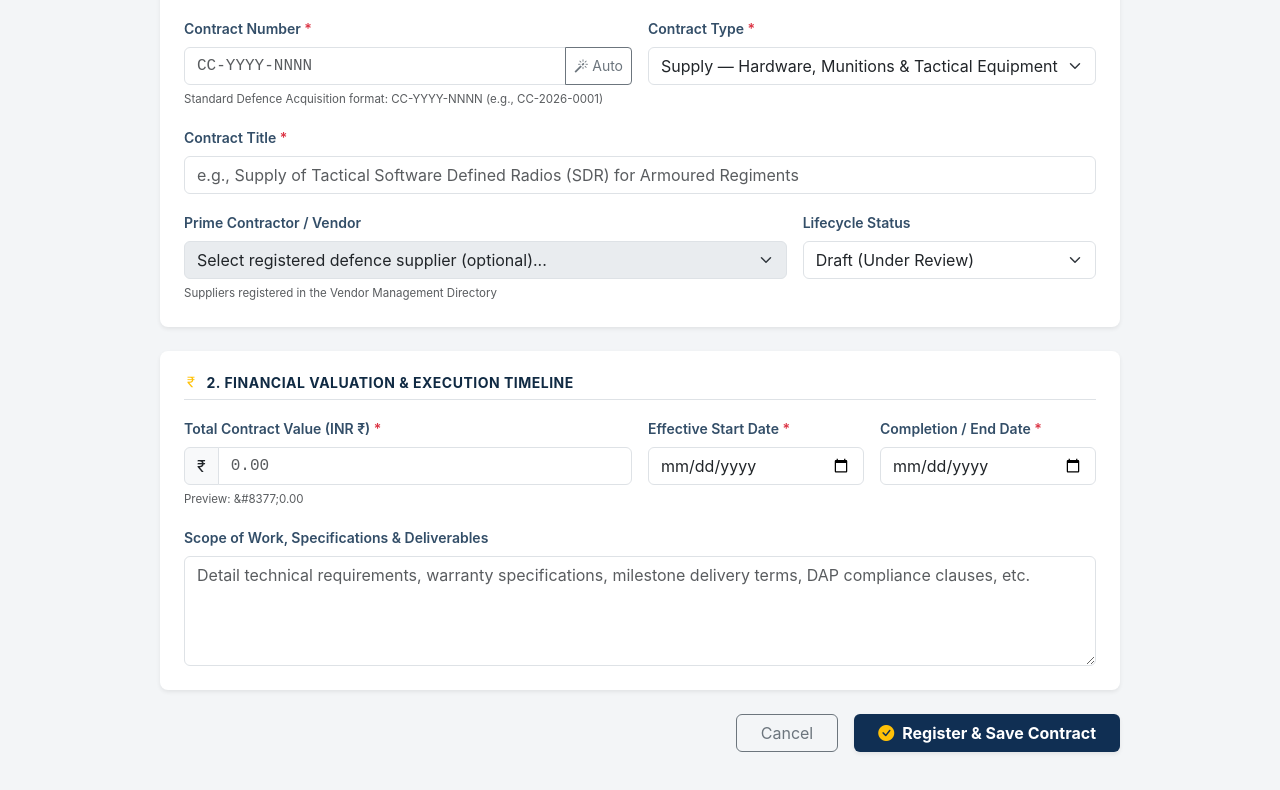
Test: Phase 4 — Contract Repository and Lifecycle Suite › ContractCreatePage Component › enforces validation rules: format, positive value, and chronological dates
(page scrolled)
What coordinates should you click on to do the following:
click the button "Register & Save Contract"
I would click on:
 (987, 733)
Its box is [854,714,1120,752].
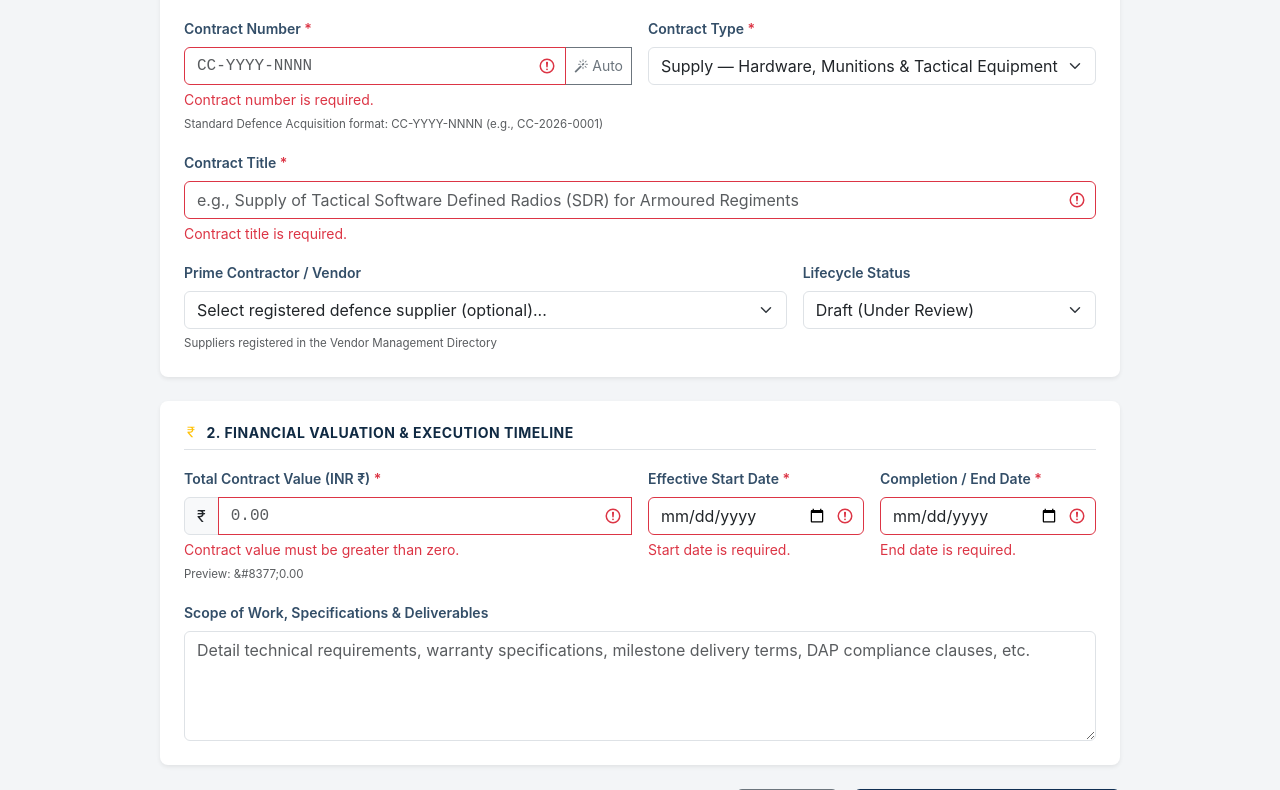
Check: the text "Contract number is required." is shown, box [184,91,374,108]
Check: the text "Contract title is required." is shown, box [184,225,347,242]
Check: the text "Contract value must be greater than zero." is shown, box [184,541,459,558]
